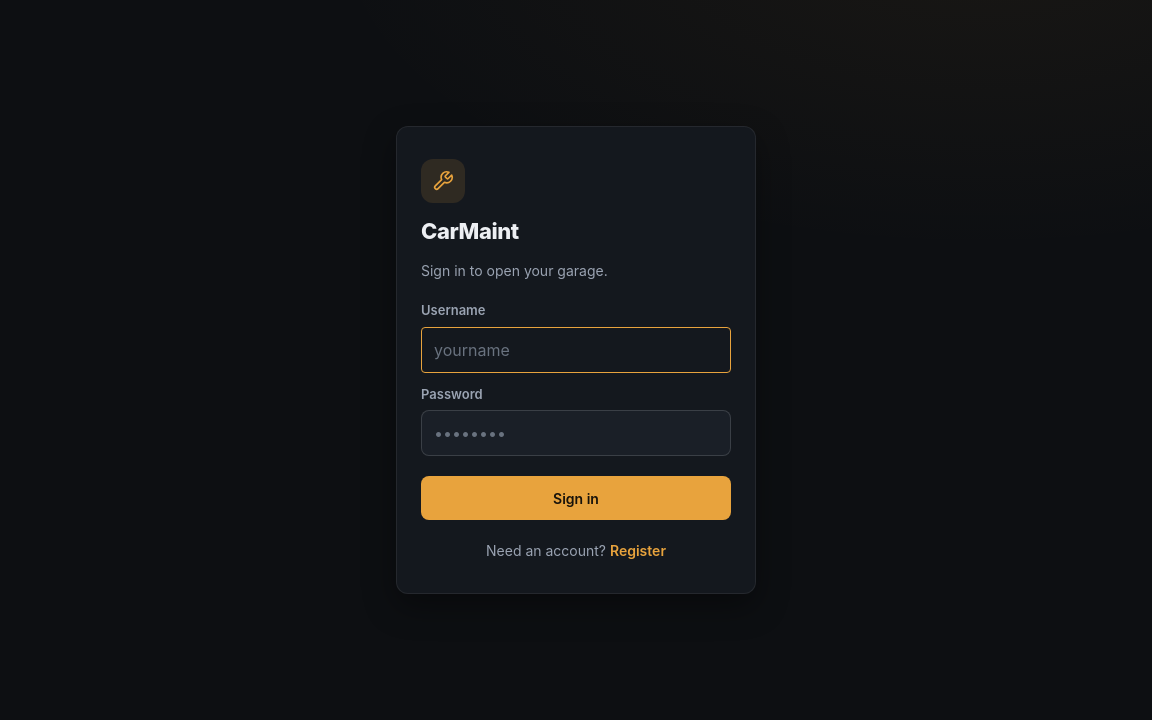
Test case: App auth gate › shows the auth screen and signs in with a username + password
Expected: the button "log out" is not shown
Type "daniel" into the field labelled "Username".
click(576, 350); type("daniel")  # box [421,326,731,372]
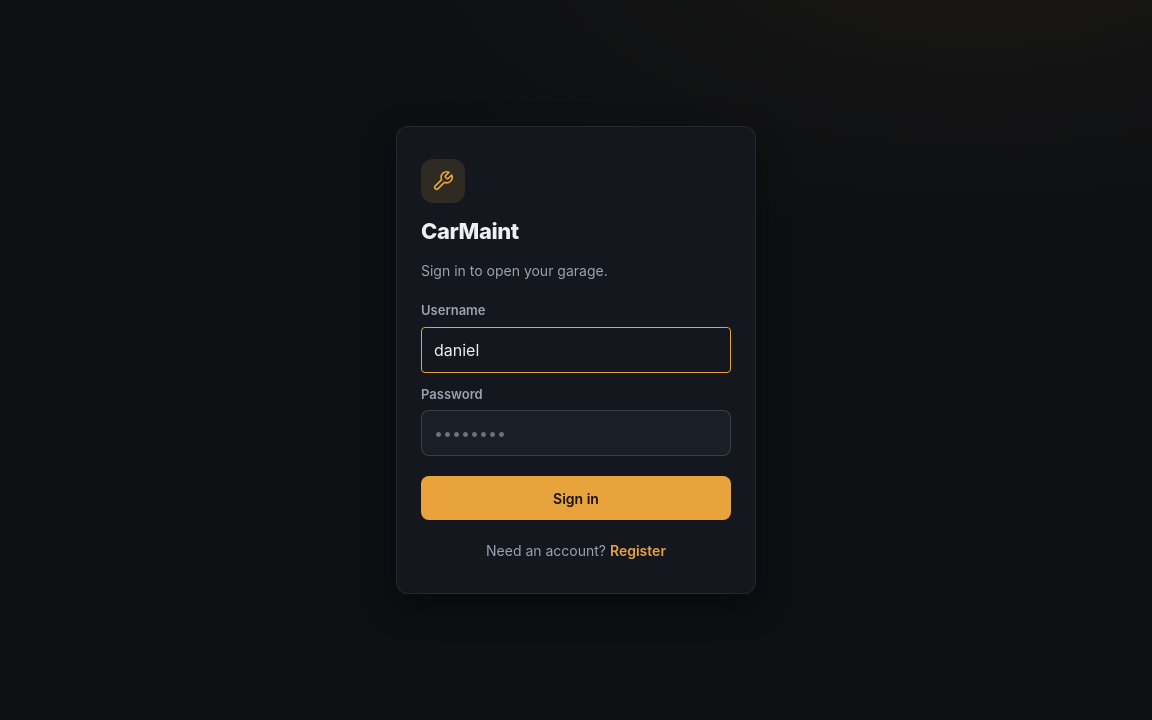
Type "correct-horse" into the password field labelled "Password".
click(576, 433); type("correct-horse")  # box [421,410,731,456]
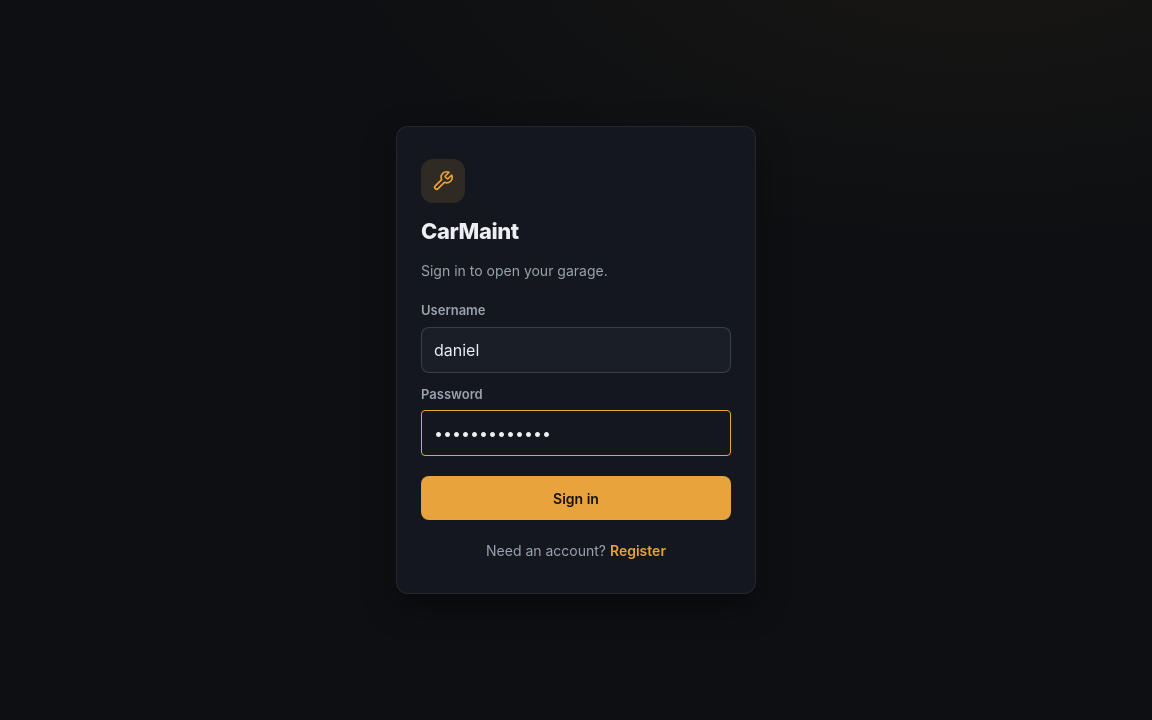
Click the button "Sign in".
click(576, 498)  # box [421,476,731,520]
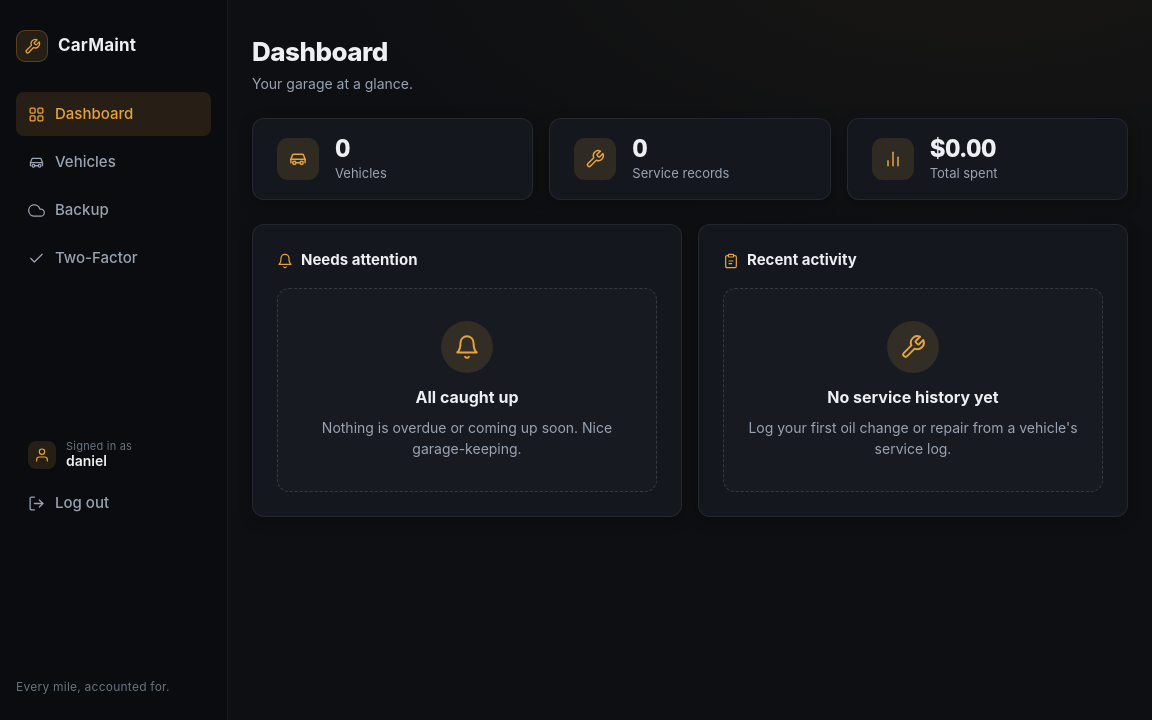
Result: the button "Log out" is shown at [16,481,211,525]
Result: the text "daniel" is shown at [66,452,107,469]
